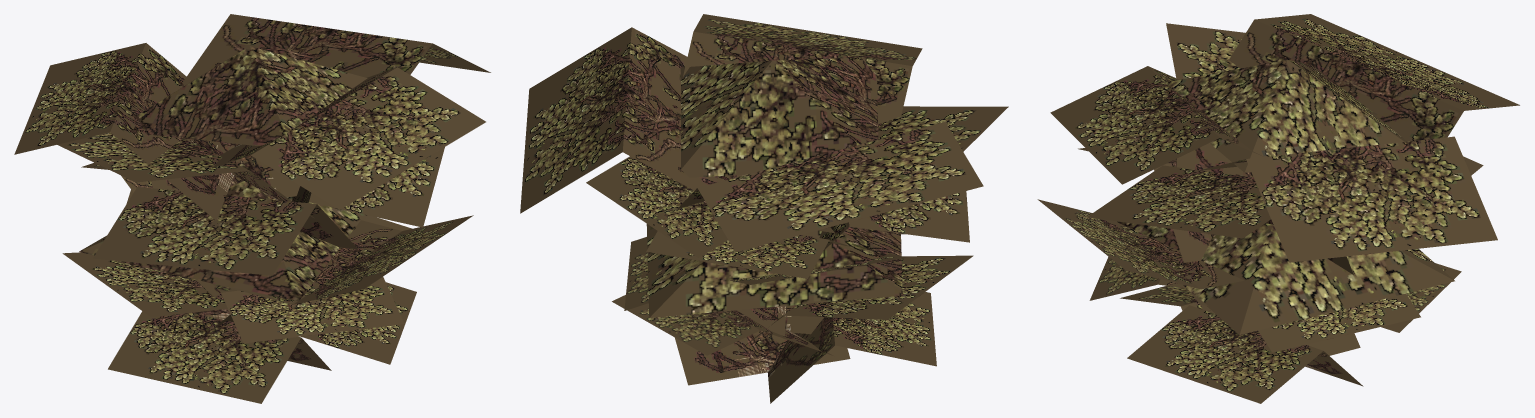
File: flora_tree_bush_mediterranean_dry_v4.glb
3 views of the same model, side by side, from view 1: azimuth 30°, elevation 25°; view 2: azimuth 150°, elevation 25°; view 3: azimuth 270°, elevation 25° (orthographic).
Parts seen in each view (by area): view 1: flora_tree_bush_mediterranean_dry_v4_part0; view 2: flora_tree_bush_mediterranean_dry_v4_part0; view 3: flora_tree_bush_mediterranean_dry_v4_part0.
Boxes of the visible parts, x1,y1,x2,y2 form: flora_tree_bush_mediterranean_dry_v4_part0: [14, 14, 490, 403]; flora_tree_bush_mediterranean_dry_v4_part0: [520, 14, 1008, 403]; flora_tree_bush_mediterranean_dry_v4_part0: [1037, 14, 1519, 403].
Size of the model in its own units: 4.58 by 2.89 by 4.16.
1 material, 1 textured.
